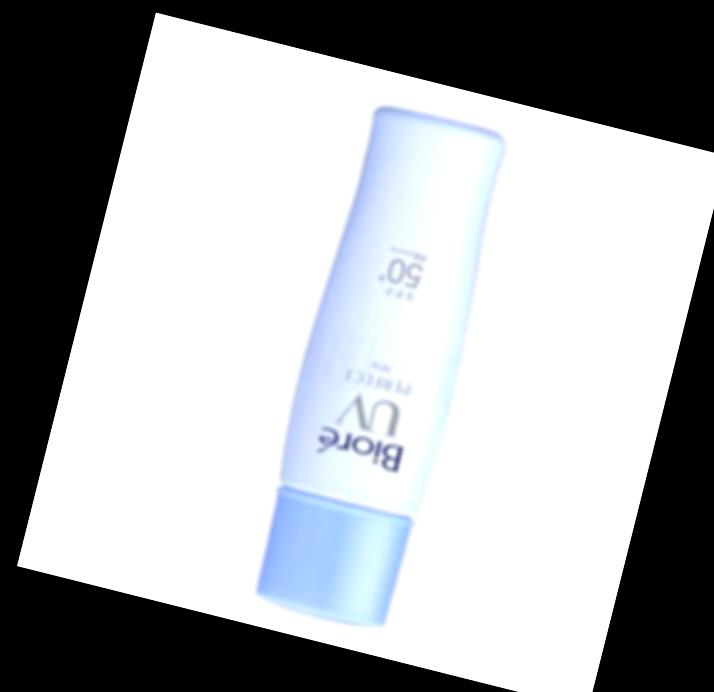cosmetic: (234, 99, 521, 635)
